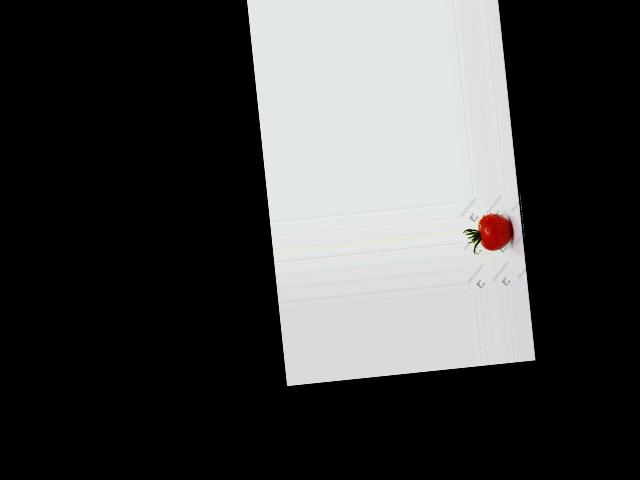tomato: (477, 213, 514, 252)
